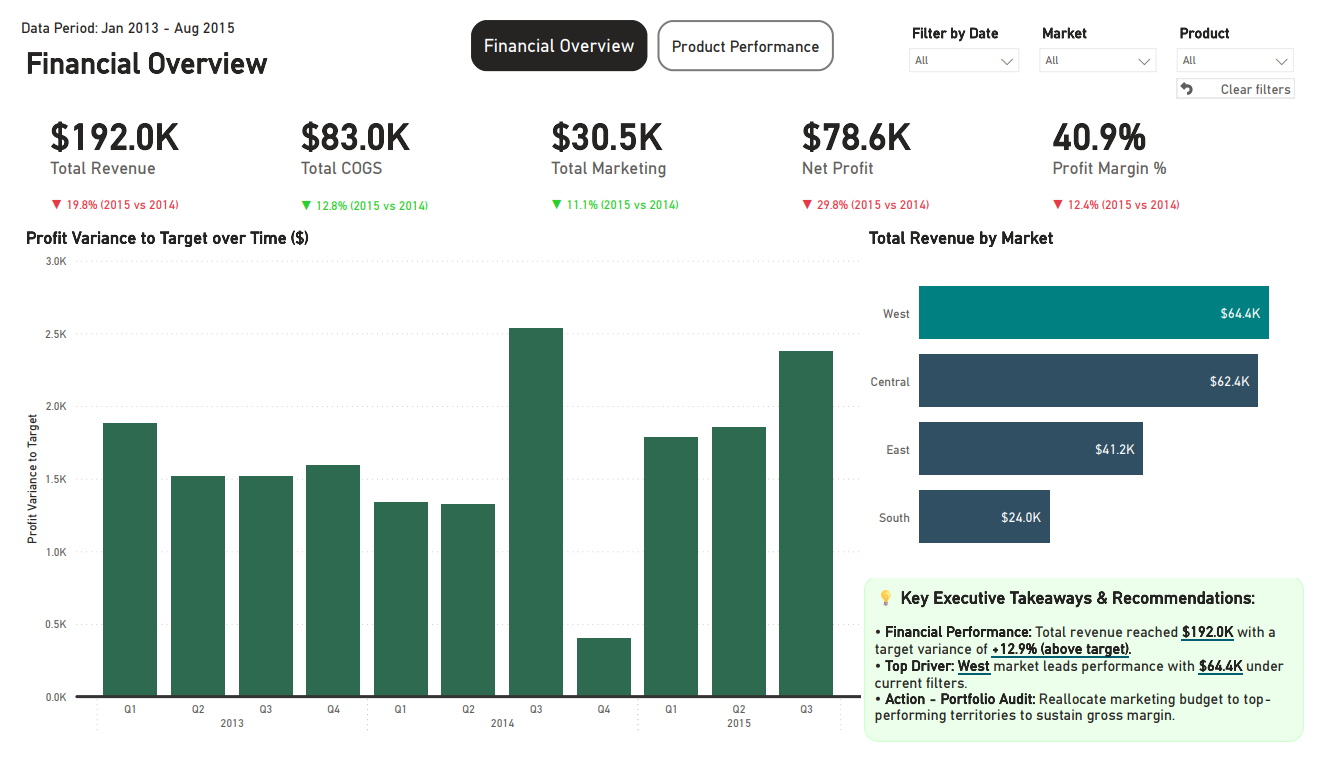

What the dashboard file says about the page in this screenshot:
{"tool":"powerbi","page":{"name":"Financial Overview","canvas":[1280,720],"ordinal":0},"visuals":[{"type":"columnChart","title":"Profit Variance to Target over Time ($)","fields":{"Category":["Calendar.Year","Calendar.Quarter","Calendar.Month"],"Y":["_Measures.Profit Variance to Target"]},"box":[0,207.1,842.9,512.9],"z":0},{"type":"textbox","box":[841.4,554.3,438.6,165.7],"z":1000},{"type":"cardVisual","fields":{"Data":["_Measures.Total Revenue","_Measures.Total COGS","_Measures.Total Marketing","_Measures.Net Profit","_Measures.Profit Margin %"]},"box":[0,77.1,1280,98.6],"z":2000},{"type":"textbox","box":[0,21.4,338.6,45.7],"z":3000},{"type":"slicer","fields":{"Values":["Fact_Sales.Product"]},"box":[1142.9,0,137.1,57.1],"z":4000},{"type":"slicer","fields":{"Values":["Dim_Geography.Market"]},"box":[1005.7,0,137.1,57.1],"z":5000},{"type":"actionButton","box":[1152.9,57.6,117.6,20.6],"z":6000},{"type":"barChart","fields":{"Y":["_Measures.Total Revenue"],"Category":["Dim_Geography.Market"]},"box":[841.4,207.1,438.6,348.6],"z":7000},{"type":"slicer","fields":{"Values":["Calendar.Year","Calendar.Month"]},"box":[875.7,0,130,56.9],"z":8000},{"type":"cardVisual","fields":{"Data":["_Measures.Revenue_Variance_Formatted"]},"box":[0,159.3,200,46.7],"z":9000},{"type":"pageNavigator","box":[448.6,0,362.9,51.4],"z":10000},{"type":"cardVisual","fields":{"Data":["_Measures.COGS YoY Formatted"]},"box":[249.3,158.6,204,48],"z":11000},{"type":"cardVisual","fields":{"Data":["_Measures.Total Marketing YoY Formated"]},"box":[498.6,157.9,188.6,48.6],"z":12000},{"type":"cardVisual","fields":{"Data":["_Measures.Net Profit YoY Formatted"]},"box":[749.4,157.9,188.6,48.6],"z":13000},{"type":"cardVisual","fields":{"Data":["_Measures.Profit Margin % YoY Formetted"]},"box":[998.7,158,188.6,48.6],"z":14000},{"type":"shape","box":[0,0,223.6,22.7],"z":15000}]}

Visuals, with their boxes in screenshot pixels (x1, y1, x2, y2), scaled from the page's 1280x720 canvas onto the 1323x762 screenshot:
"Profit Variance to Target over Time ($)" columnChart: x1=0 y1=219 x2=871 y2=761
textbox: x1=870 y1=587 x2=1322 y2=761
cardVisual - _Measures.Total Revenue x _Measures.Total COGS: x1=0 y1=82 x2=1322 y2=186
textbox: x1=0 y1=23 x2=350 y2=71
slicer - Fact_Sales.Product: x1=1181 y1=0 x2=1322 y2=60
slicer - Dim_Geography.Market: x1=1039 y1=0 x2=1181 y2=60
actionButton: x1=1192 y1=61 x2=1313 y2=83
barChart - _Measures.Total Revenue x Dim_Geography.Market: x1=870 y1=219 x2=1322 y2=588
slicer - Calendar.Year x Calendar.Month: x1=905 y1=0 x2=1039 y2=60
cardVisual - _Measures.Revenue_Variance_Formatted: x1=0 y1=169 x2=207 y2=218
pageNavigator: x1=464 y1=0 x2=839 y2=54
cardVisual - _Measures.COGS YoY Formatted: x1=258 y1=168 x2=469 y2=219
cardVisual - _Measures.Total Marketing YoY Formated: x1=515 y1=167 x2=710 y2=219
cardVisual - _Measures.Net Profit YoY Formatted: x1=775 y1=167 x2=970 y2=219
cardVisual - _Measures.Profit Margin % YoY Formetted: x1=1032 y1=167 x2=1227 y2=219
shape: x1=0 y1=0 x2=231 y2=24
